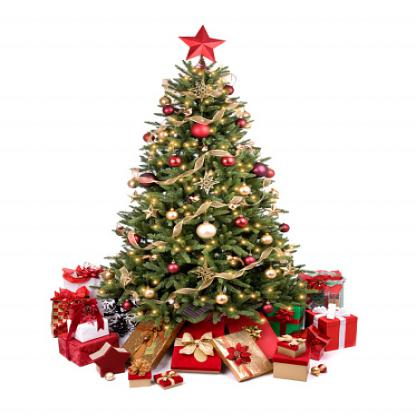present: (217, 327, 289, 412), (57, 324, 130, 370), (167, 312, 221, 373), (271, 317, 319, 382), (58, 253, 103, 317), (310, 299, 356, 345)
x_mas tree: (106, 28, 310, 323)
